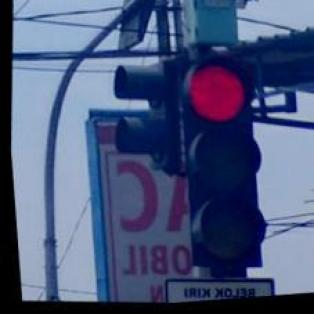Semoforo Rojo: (166, 55, 281, 277)
